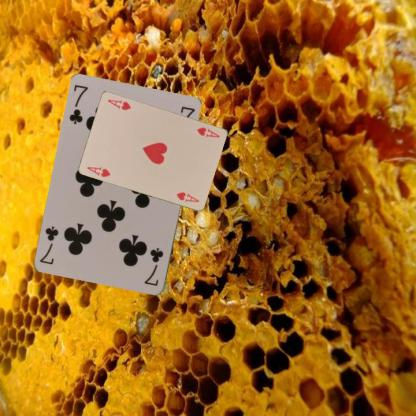7c: (66, 82, 90, 126), (142, 245, 165, 288)
Ah: (84, 164, 112, 179), (194, 124, 221, 138)
